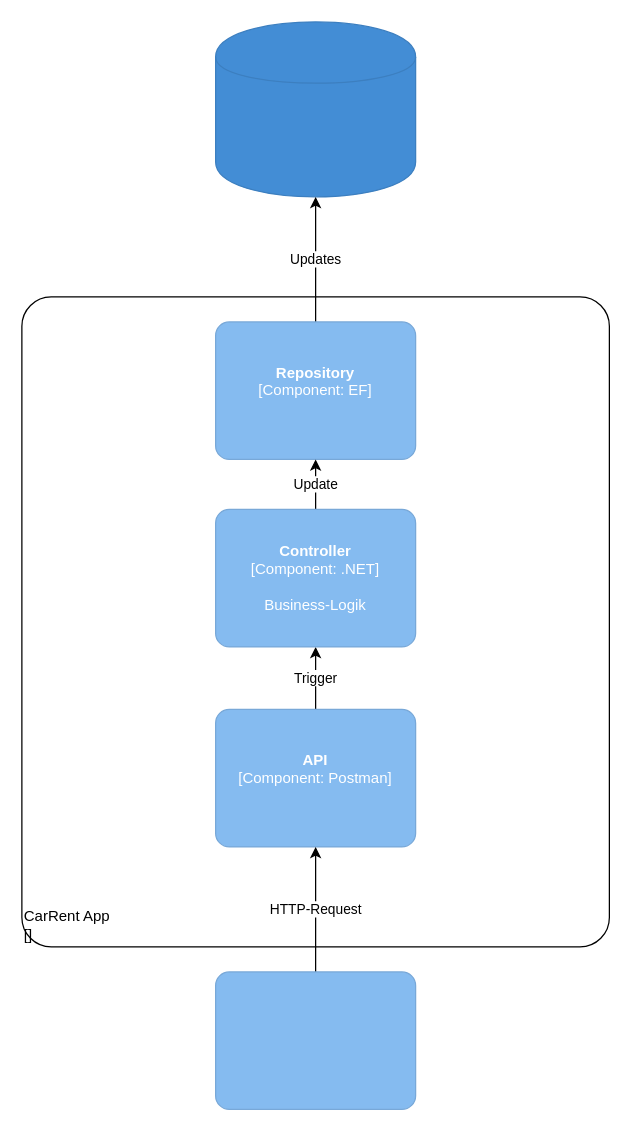
The diagram is 631 pixels wide and 1131 high, and some of its shapes have lost their labels. Here are the shapes that lost their labels. From the top down, the centre of each, then its label:
At (315,109): "Database [Container: MSSQL] Datenbank".
At (315,1040): "Webclient [Component: technology]".
